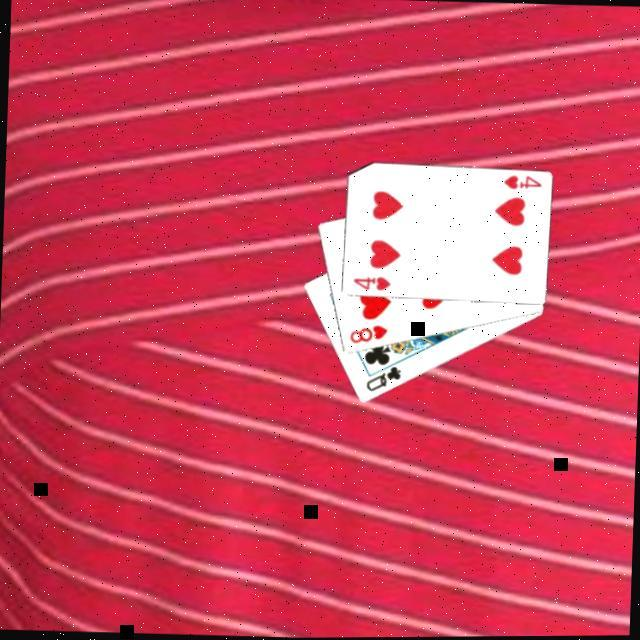4H: (499, 171, 544, 193), (349, 272, 392, 293)
8H: (345, 320, 390, 346)
QC: (361, 362, 402, 395)
